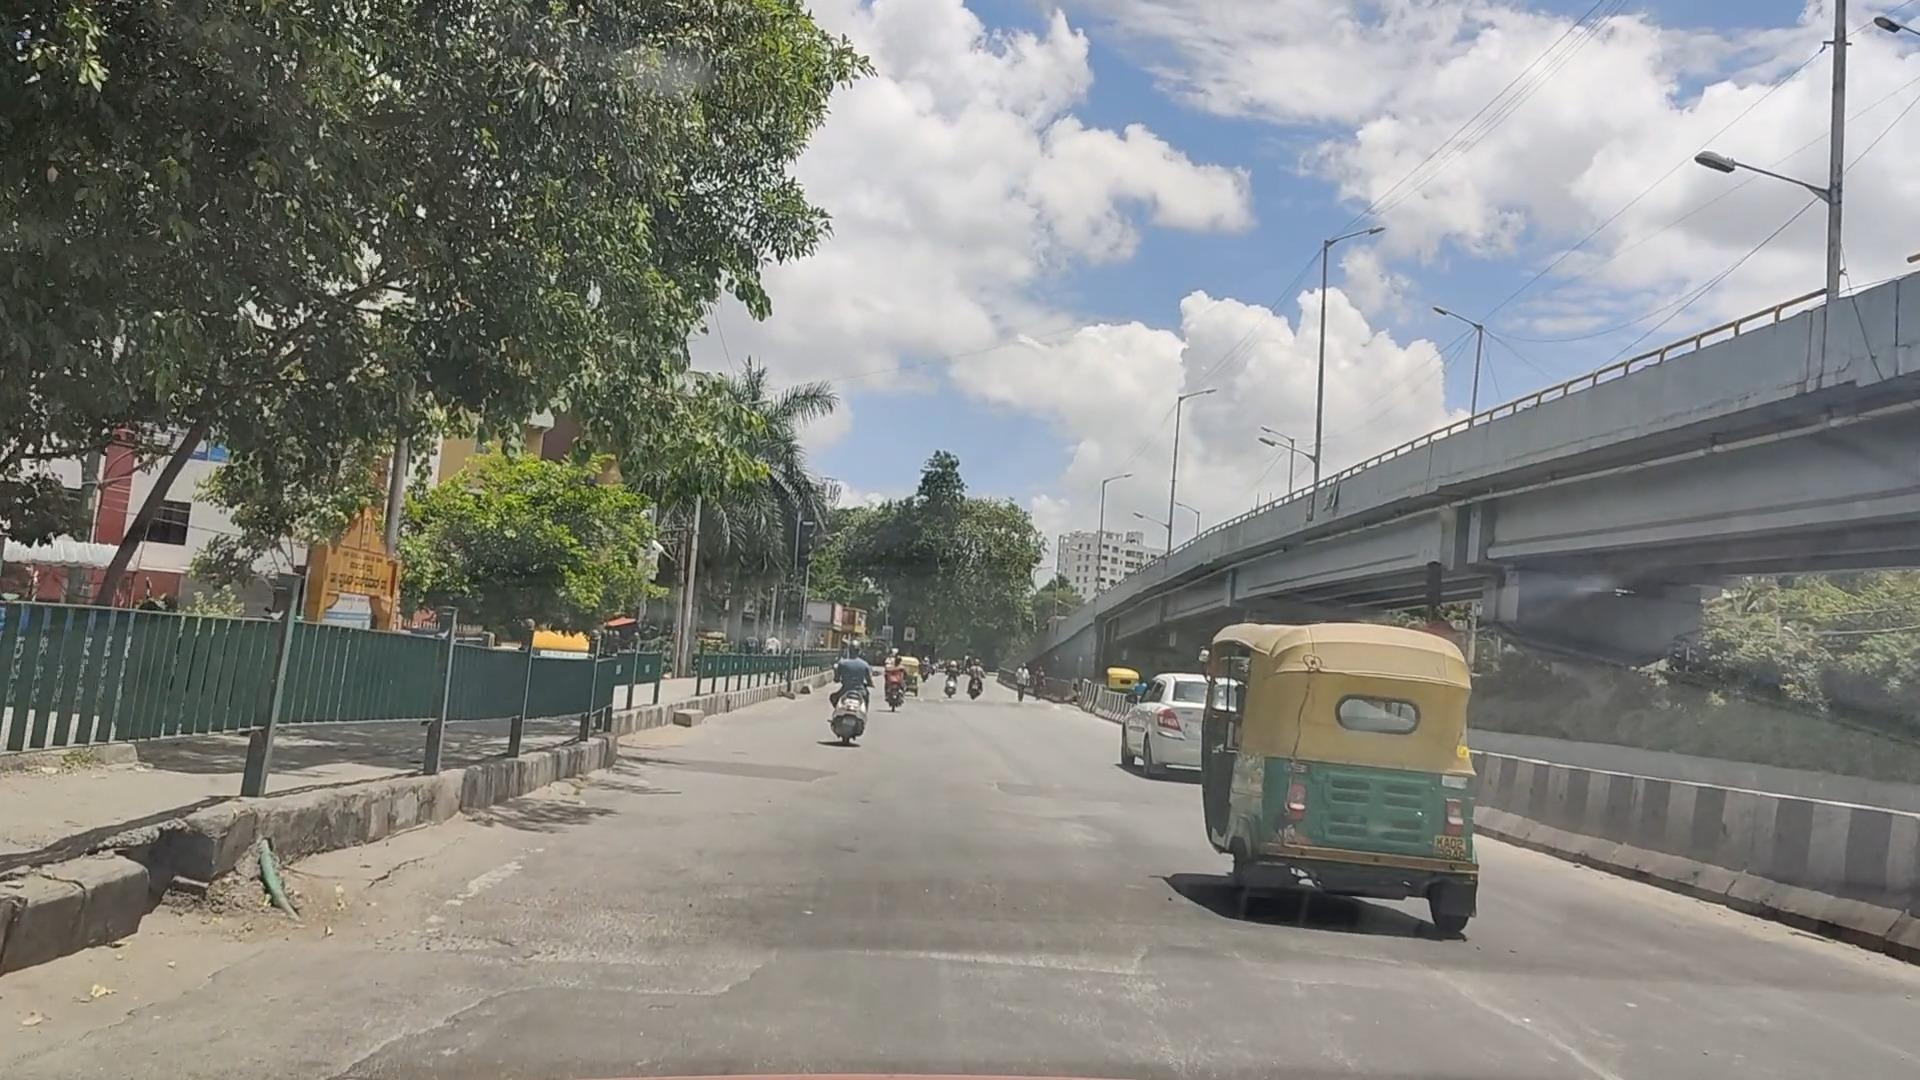LMV: (1250, 641, 1510, 942)
RoadDamages: (414, 894, 647, 1002), (1319, 977, 1596, 1043), (935, 927, 1153, 1000)
